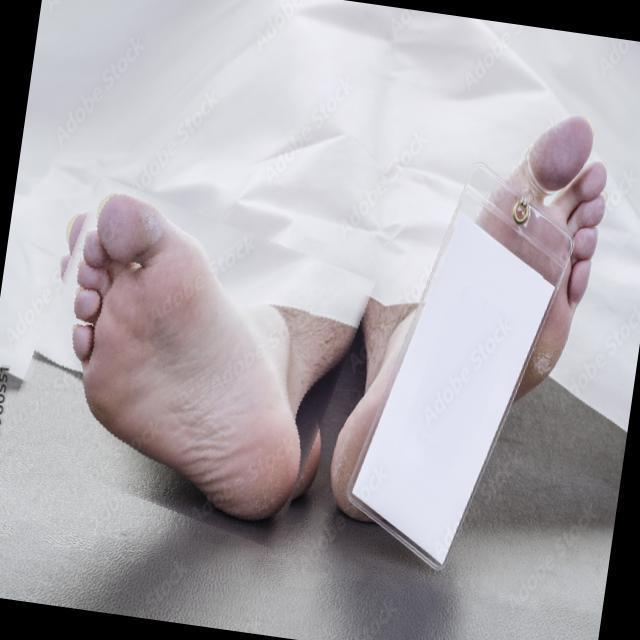No_Shoes: (335, 109, 611, 541), (45, 176, 302, 523)
